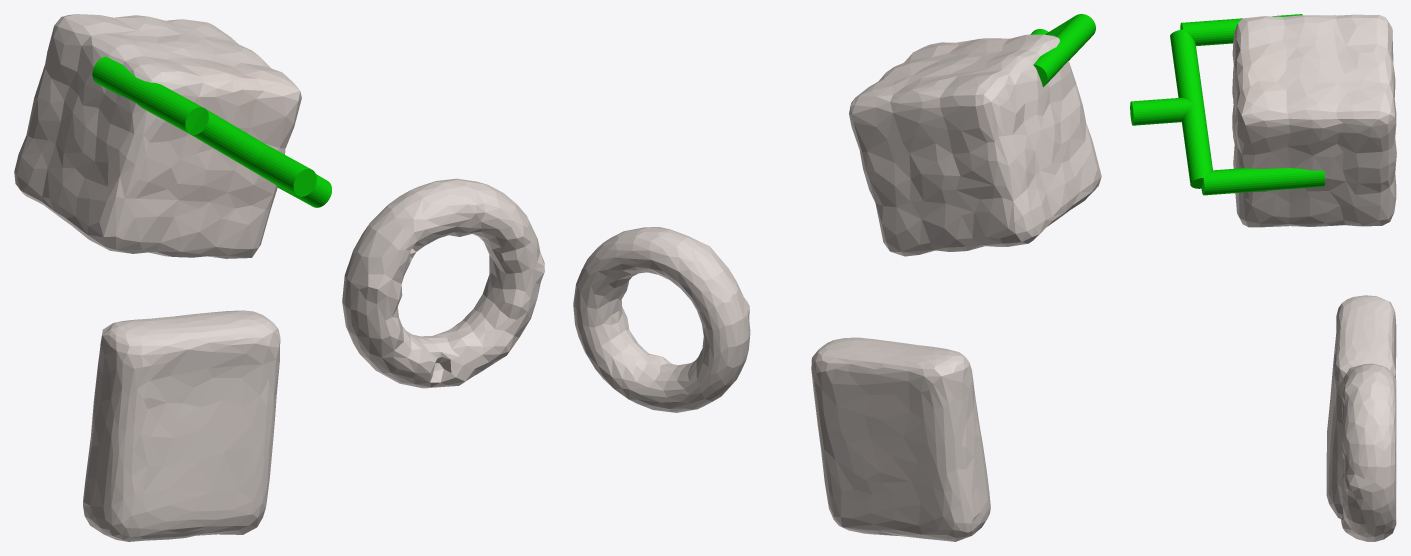
File: round_000_trial_002.obj
The picture shows the model from 3 angles, left to right: view 1: azimuth 30°, elevation 25°; view 2: azimuth 150°, elevation 25°; view 3: azimuth 270°, elevation 25°; orthographic projection. The views are drawn at different scales.
Parts seen in each view (by area): view 1: geometry_0, geometry_1; view 2: geometry_0, geometry_1; view 3: geometry_0, geometry_1.
Part boxes in pixels (x1,y1,x2,y2): geometry_0: [14, 14, 544, 541]; geometry_1: [92, 56, 331, 207]; geometry_0: [573, 34, 1101, 541]; geometry_1: [1030, 14, 1095, 87]; geometry_0: [1232, 14, 1396, 541]; geometry_1: [1130, 14, 1324, 195].
Bounding box in the file's own units: 0.2007 × 0.201 × 0.1092.
